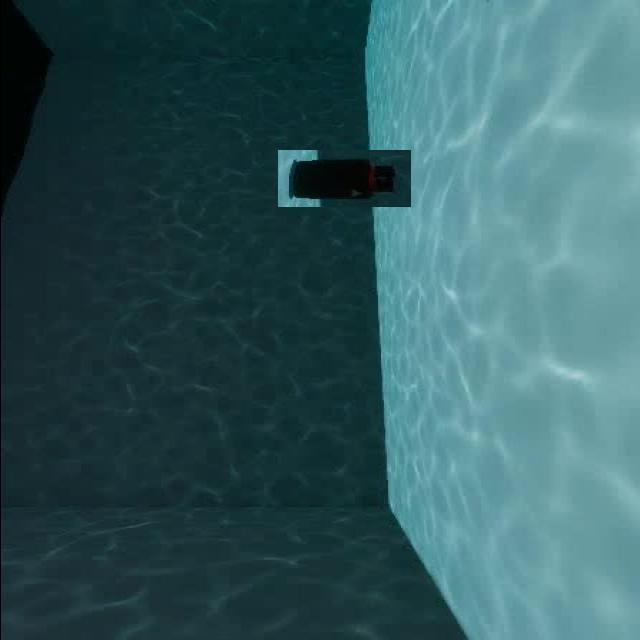Cylinder: (278, 150, 412, 207)
